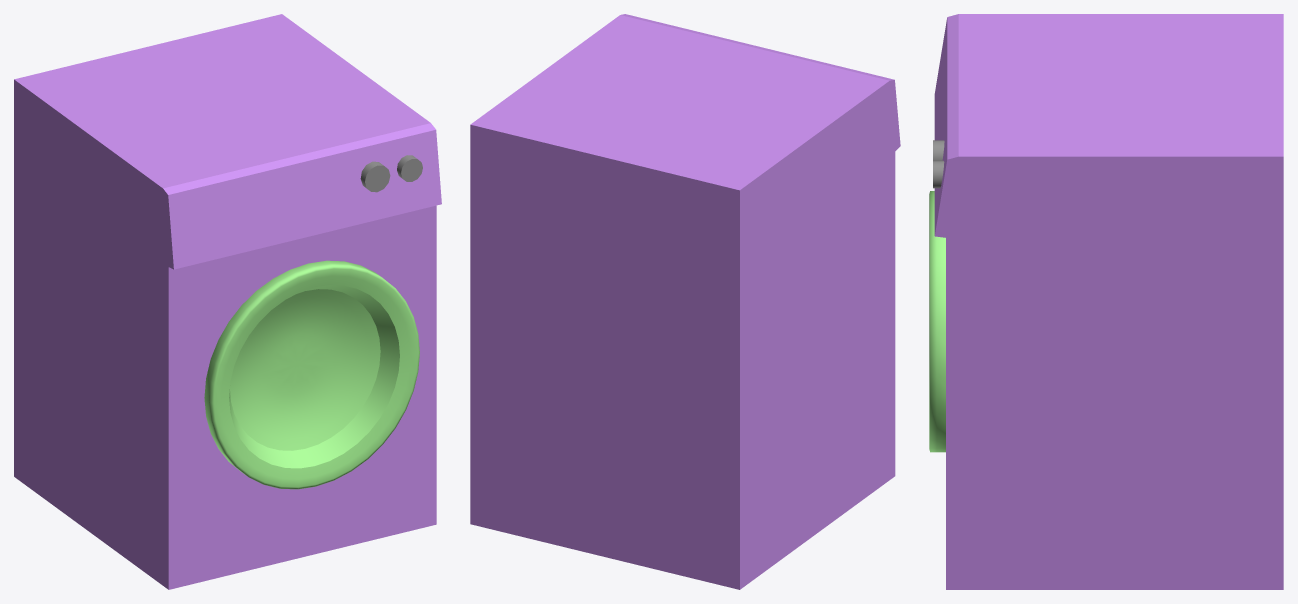
The model's file is washing_machine_v2.FBX.
3 renders of one model, left to right at view 1: azimuth 30°, elevation 25°; view 2: azimuth 150°, elevation 25°; view 3: azimuth 270°, elevation 25°, orthographic. The views are drawn at different scales.
Visible parts, largest first — view 1: Box001, Cylinder001, Cylinder003, Cylinder002; view 2: Box001; view 3: Box001, Cylinder001.
Part boxes in pixels (bbox=[...]): Box001: bbox=[14, 14, 441, 589]; Cylinder001: bbox=[204, 260, 419, 489]; Cylinder003: bbox=[360, 161, 390, 192]; Cylinder002: bbox=[397, 155, 422, 181]; Box001: bbox=[470, 14, 900, 589]; Box001: bbox=[934, 14, 1283, 589]; Cylinder001: bbox=[929, 191, 945, 452].
Bounding box in the file's own units: 23.62 × 33.46 × 24.79.
